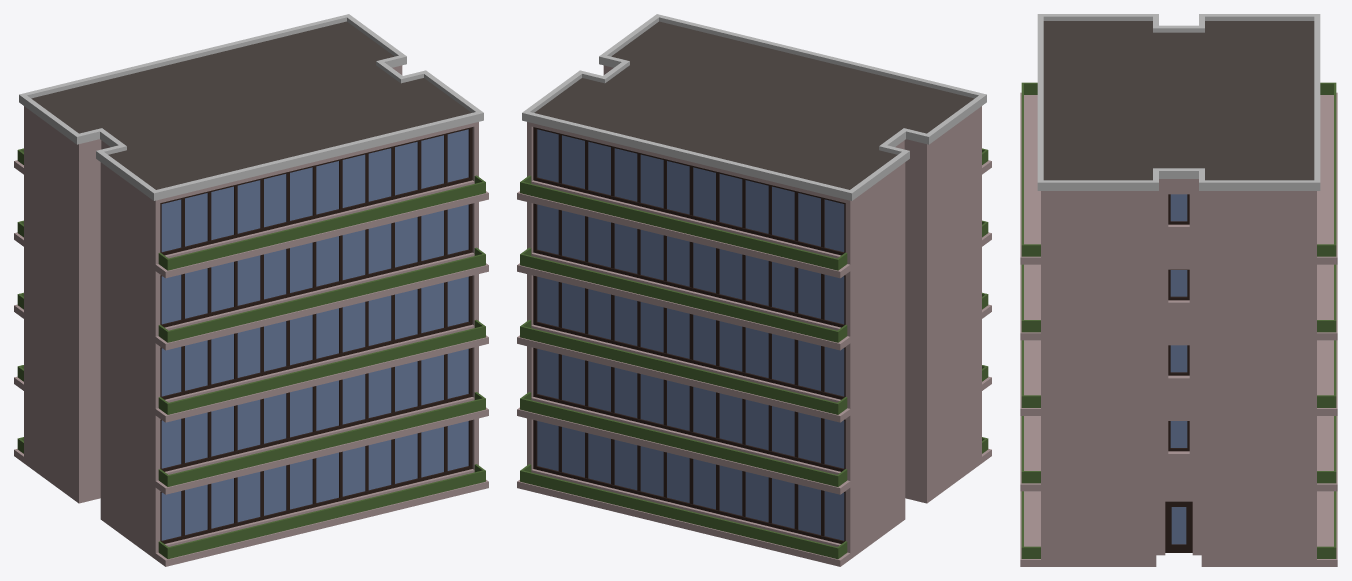
File: ApartmentBuilding_04.fbx
3 renders of one model, left to right at view 1: azimuth 30°, elevation 25°; view 2: azimuth 150°, elevation 25°; view 3: azimuth 270°, elevation 25°, orthographic. The views are drawn at different scales.
Visible parts, largest first — view 1: ApartmentBuilding_04; view 2: ApartmentBuilding_04; view 3: ApartmentBuilding_04.
Part boxes in pixels (x1=…): ApartmentBuilding_04: x1=14, y1=14, x2=488, y2=566; ApartmentBuilding_04: x1=517, y1=14, x2=991, y2=566; ApartmentBuilding_04: x1=1020, y1=14, x2=1337, y2=566.
Bounding box in the file's own units: 15.64 × 16.68 × 12.43.
